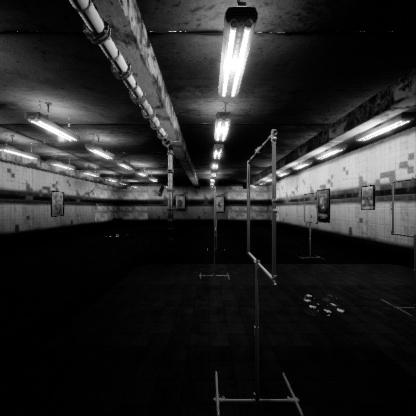gate: (251, 126, 283, 289), (392, 172, 416, 243), (304, 191, 319, 224), (215, 184, 217, 231), (216, 194, 217, 221)
